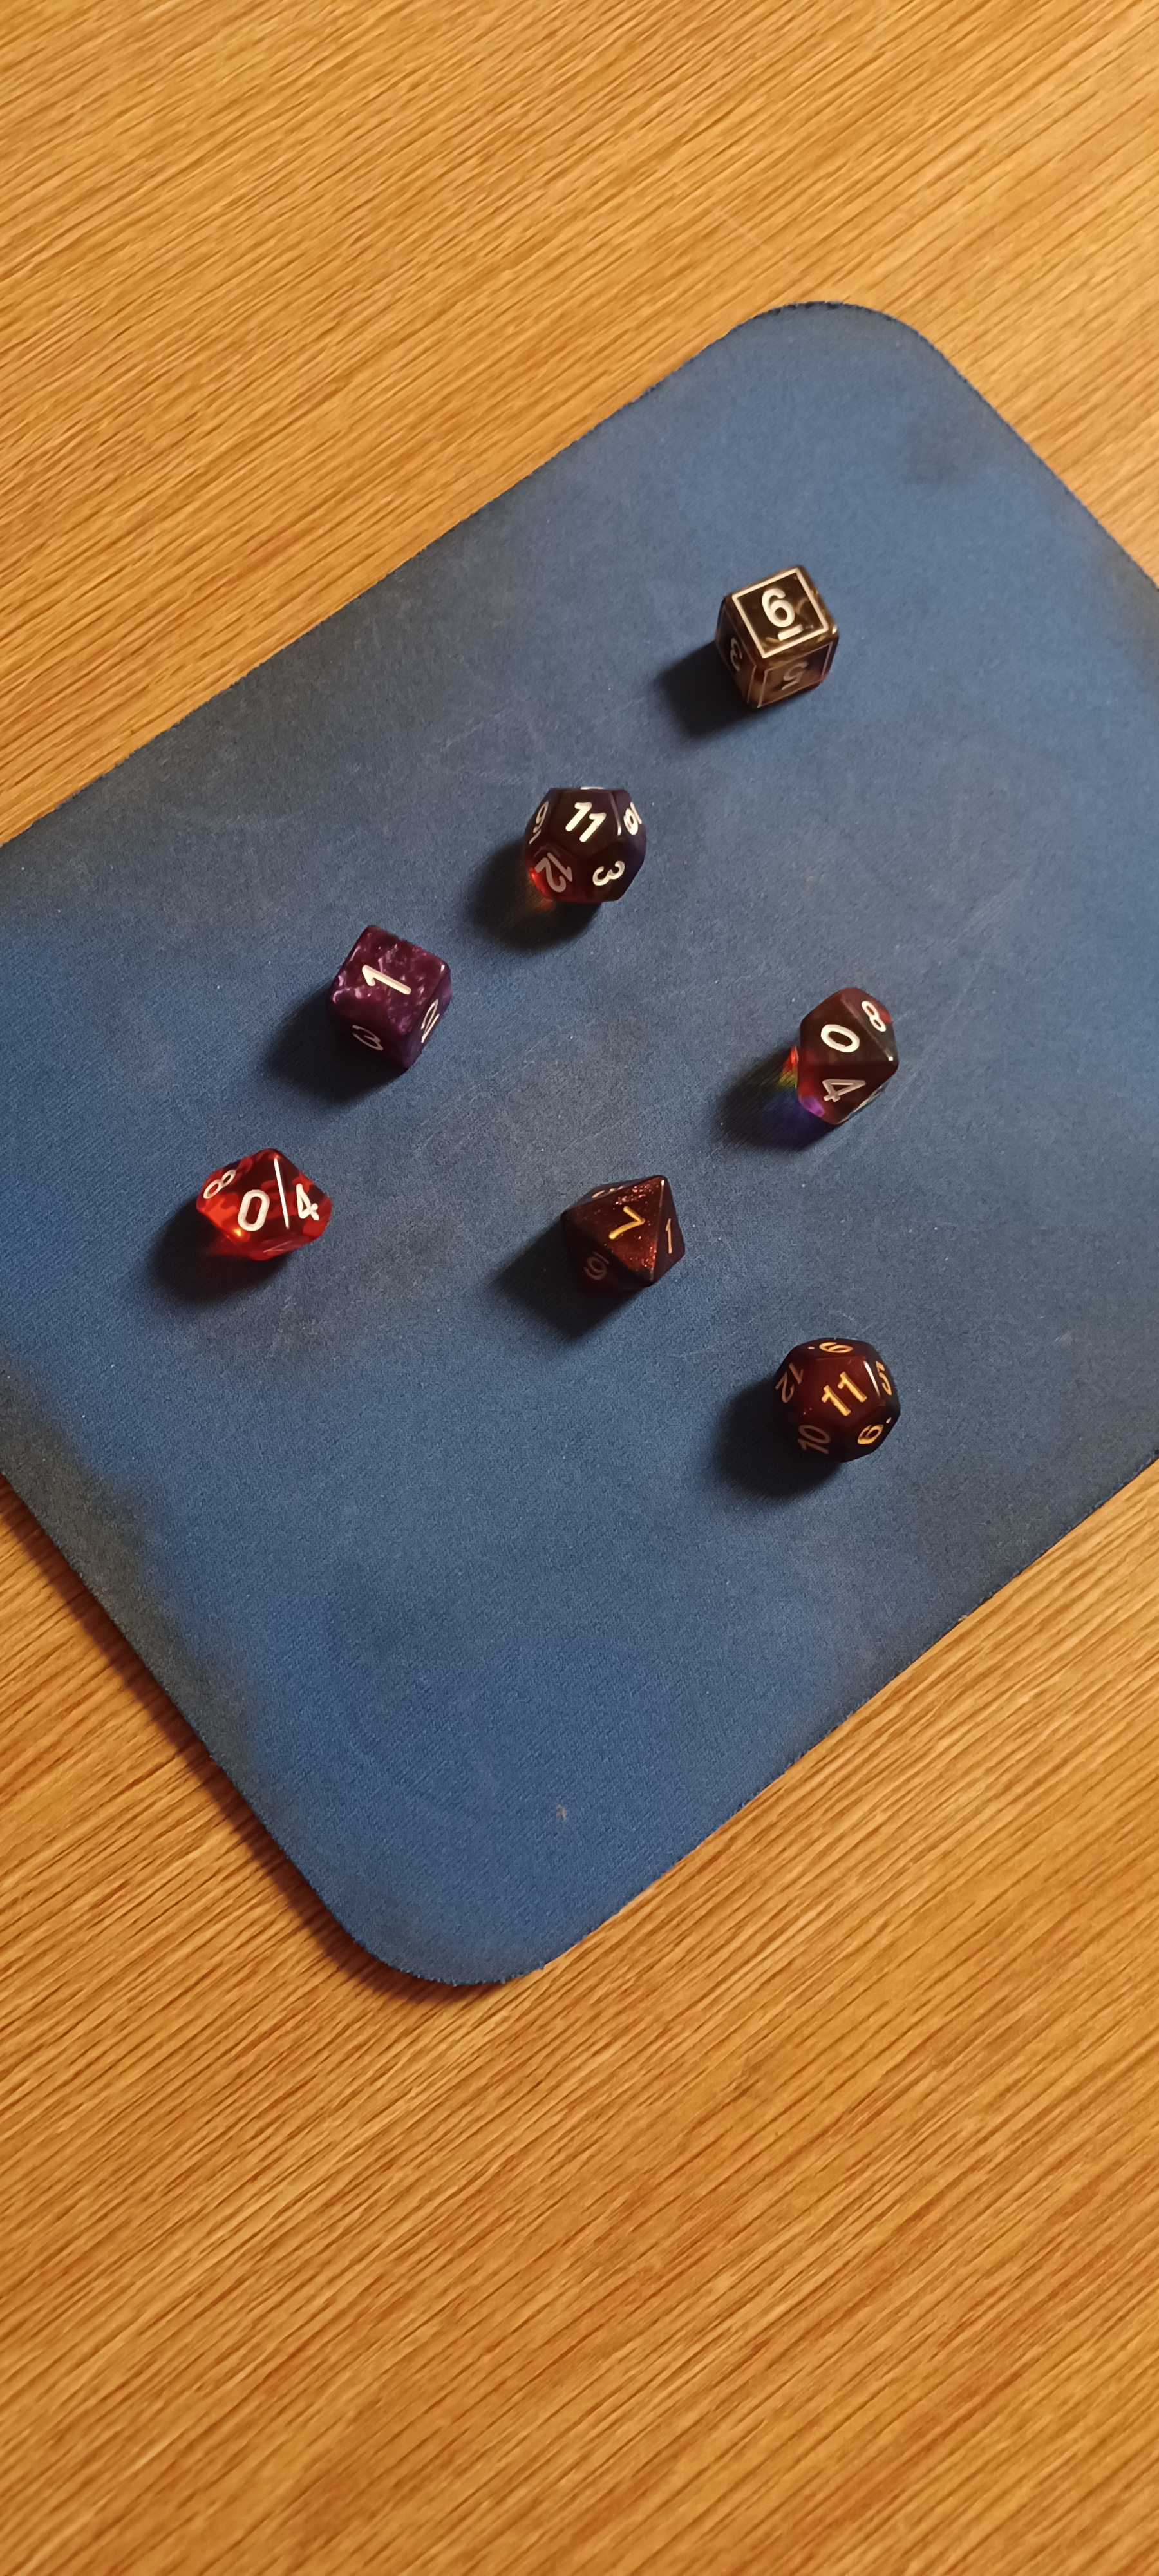eleven: (726, 1299, 941, 1492), (494, 766, 689, 927)
one: (292, 907, 471, 1061)
seven: (550, 1161, 709, 1304)
six: (696, 537, 864, 720)
zero: (146, 1109, 364, 1329), (726, 954, 955, 1158)
